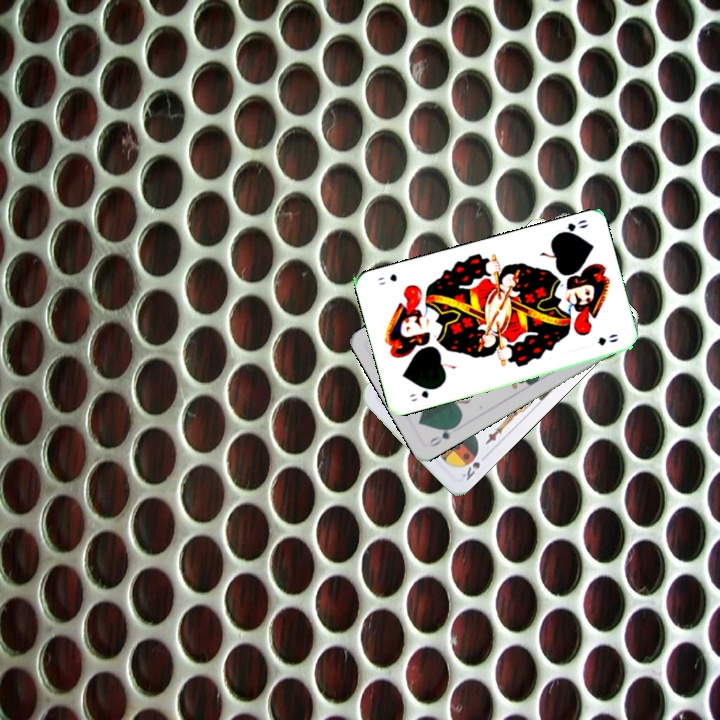GO: (425, 421, 460, 449), (552, 215, 591, 238), (405, 383, 440, 404)
SK: (458, 450, 490, 483)
